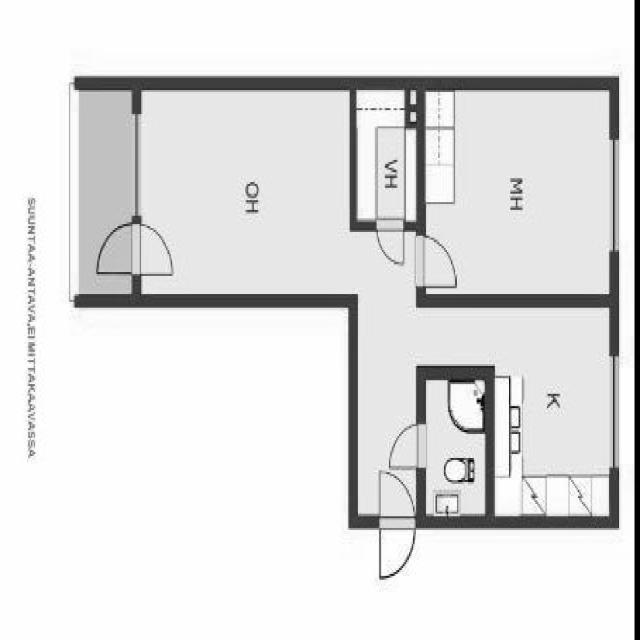door: (128, 75, 356, 292), (422, 85, 614, 302), (489, 372, 620, 528), (348, 81, 423, 224), (421, 369, 487, 518)
zone: (84, 216, 174, 281), (370, 468, 418, 584), (412, 234, 463, 297), (393, 422, 428, 476), (373, 213, 409, 262)
